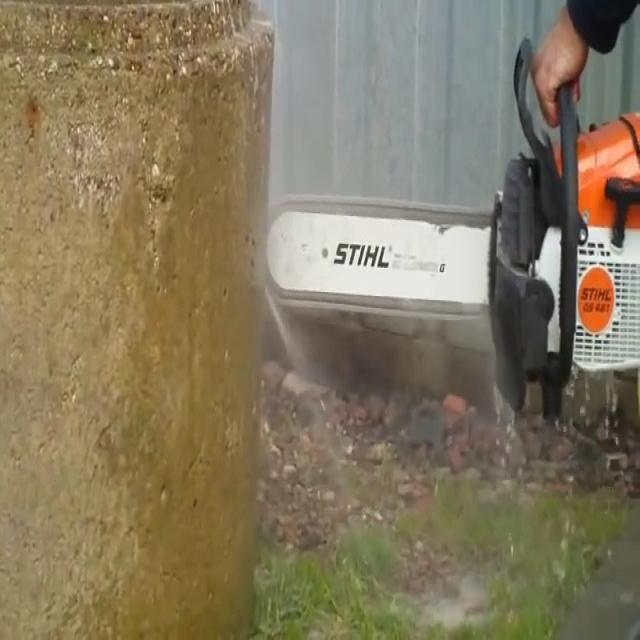Chainsaw: (258, 32, 640, 426)
